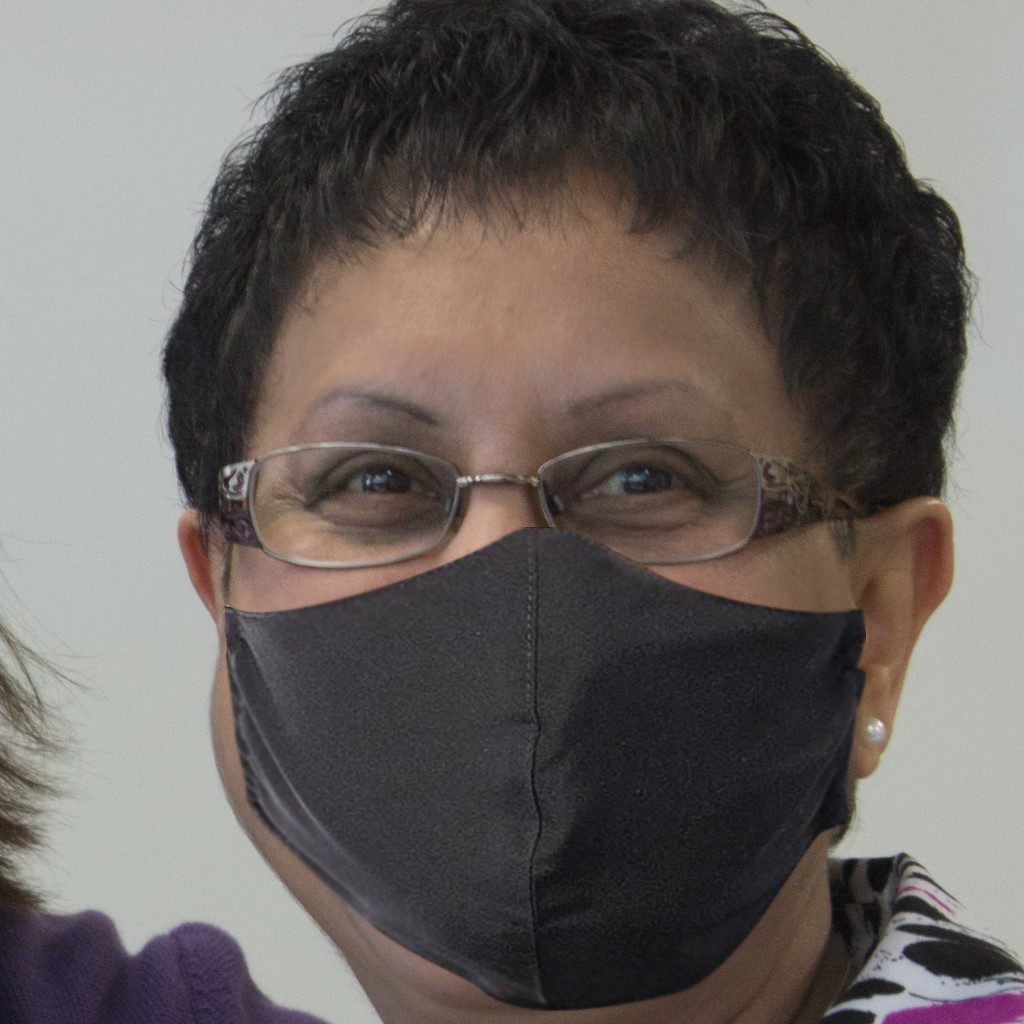con_mascara: (141, 86, 874, 980)
